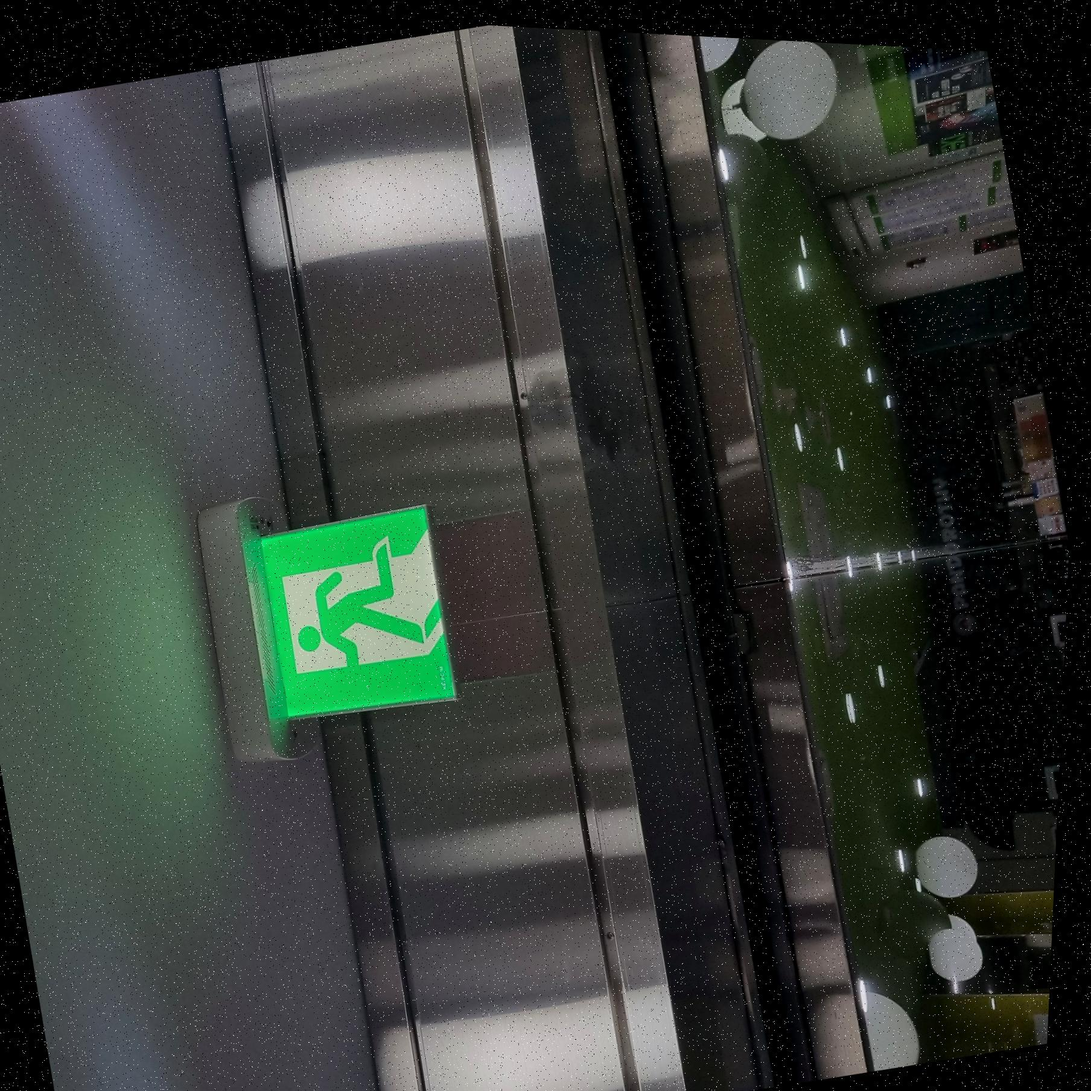emergency_exit: (241, 500, 460, 728)
